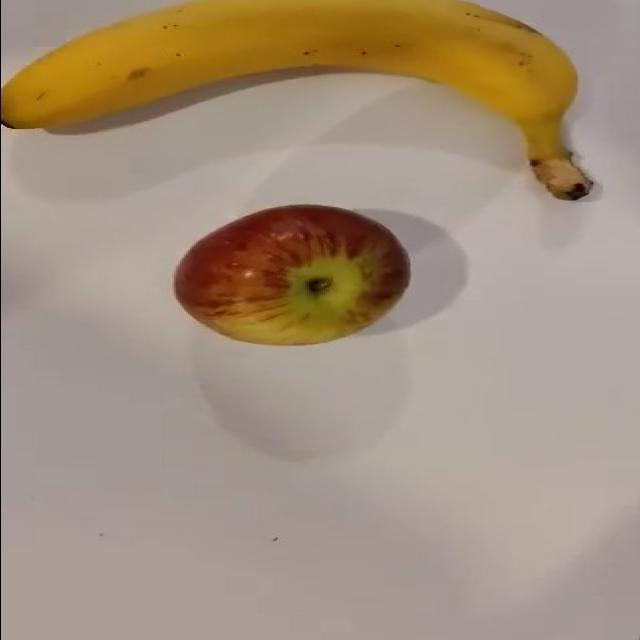Apple: (172, 203, 414, 349)
Banana: (0, 3, 582, 185)
